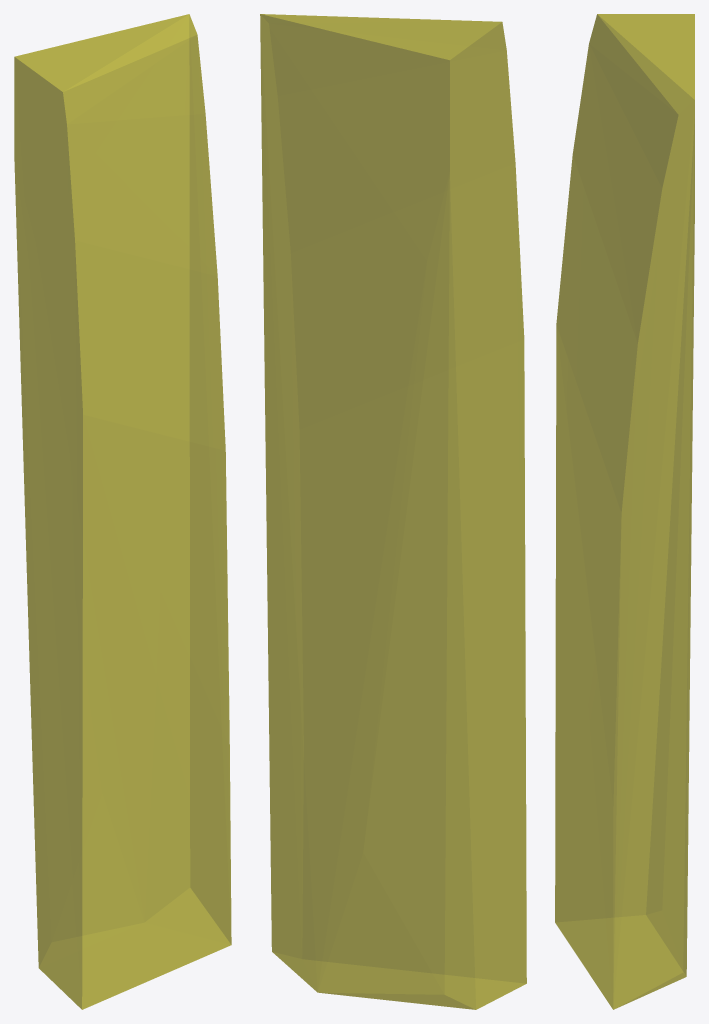
The picture shows the model from 3 angles, left to right: view 1: azimuth 30°, elevation 25°; view 2: azimuth 150°, elevation 25°; view 3: azimuth 270°, elevation 25°; orthographic projection. The views are drawn at different scales.
Parts seen in each view (by area): view 1: Shape_IndexedFaceSet.027_Shape_IndexedFaceSet.1992; view 2: Shape_IndexedFaceSet.027_Shape_IndexedFaceSet.1992; view 3: Shape_IndexedFaceSet.027_Shape_IndexedFaceSet.1992.
Part boxes in pixels (x1,y1,x2,y2): Shape_IndexedFaceSet.027_Shape_IndexedFaceSet.1992: [14, 14, 231, 1009]; Shape_IndexedFaceSet.027_Shape_IndexedFaceSet.1992: [260, 14, 526, 1009]; Shape_IndexedFaceSet.027_Shape_IndexedFaceSet.1992: [555, 14, 694, 1009].
Bounding box in the file's own units: 0.1354 × 0.6549 × 0.0913.
